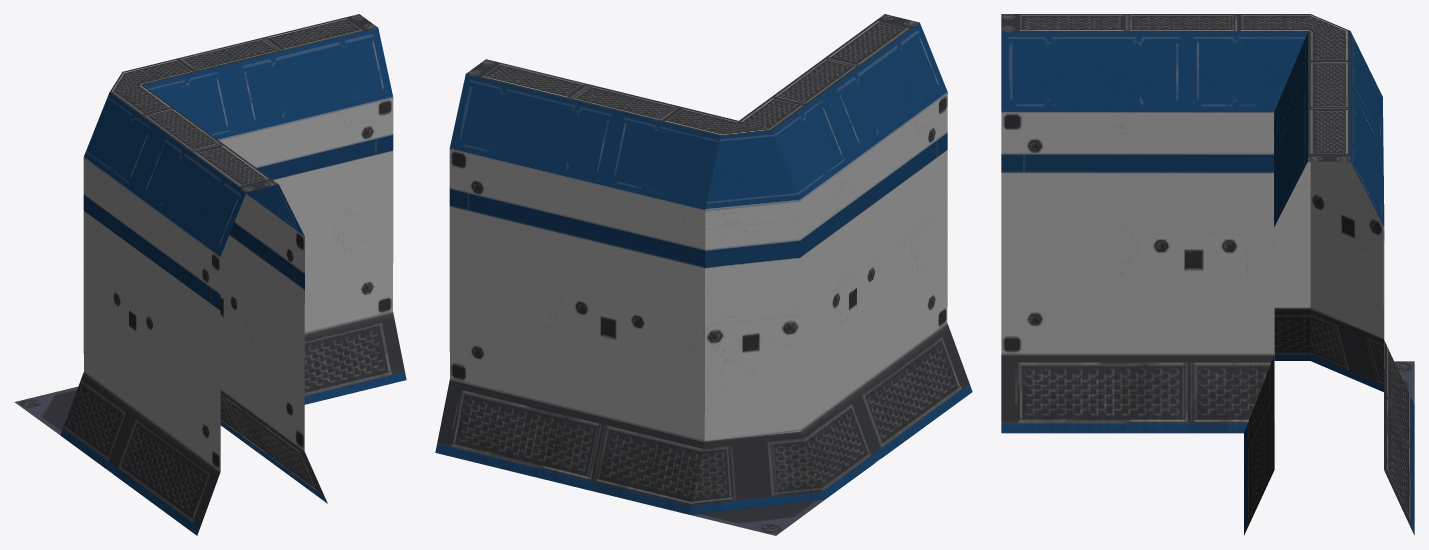
Rendered from Wall_angle_6_Sci_Fi.fbx.
The picture shows the model from 3 angles, left to right: view 1: azimuth 30°, elevation 25°; view 2: azimuth 150°, elevation 25°; view 3: azimuth 270°, elevation 25°; orthographic projection. The views are drawn at different scales.
Visible parts, largest first — view 1: Wall_angle_6_Sci_Fi; view 2: Wall_angle_6_Sci_Fi; view 3: Wall_angle_6_Sci_Fi.
Part boxes in pixels (box(x1,y1,x2,y2)): Wall_angle_6_Sci_Fi: box(14, 14, 406, 535); Wall_angle_6_Sci_Fi: box(435, 14, 972, 535); Wall_angle_6_Sci_Fi: box(1001, 14, 1414, 535).
Bounding box in the file's own units: 395 × 395 × 395.
